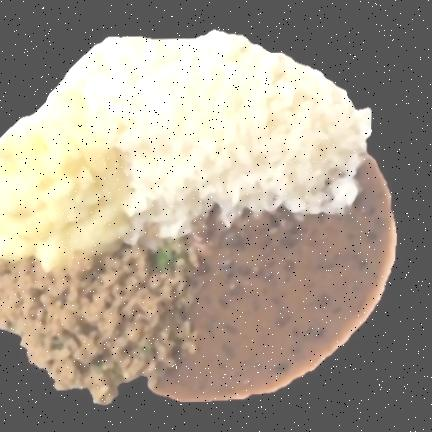beans: (151, 157, 396, 401)
meat: (0, 240, 199, 402)
potato: (0, 93, 127, 268)
rice: (84, 30, 371, 240)
